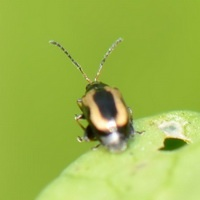insect: (49, 38, 133, 151)
